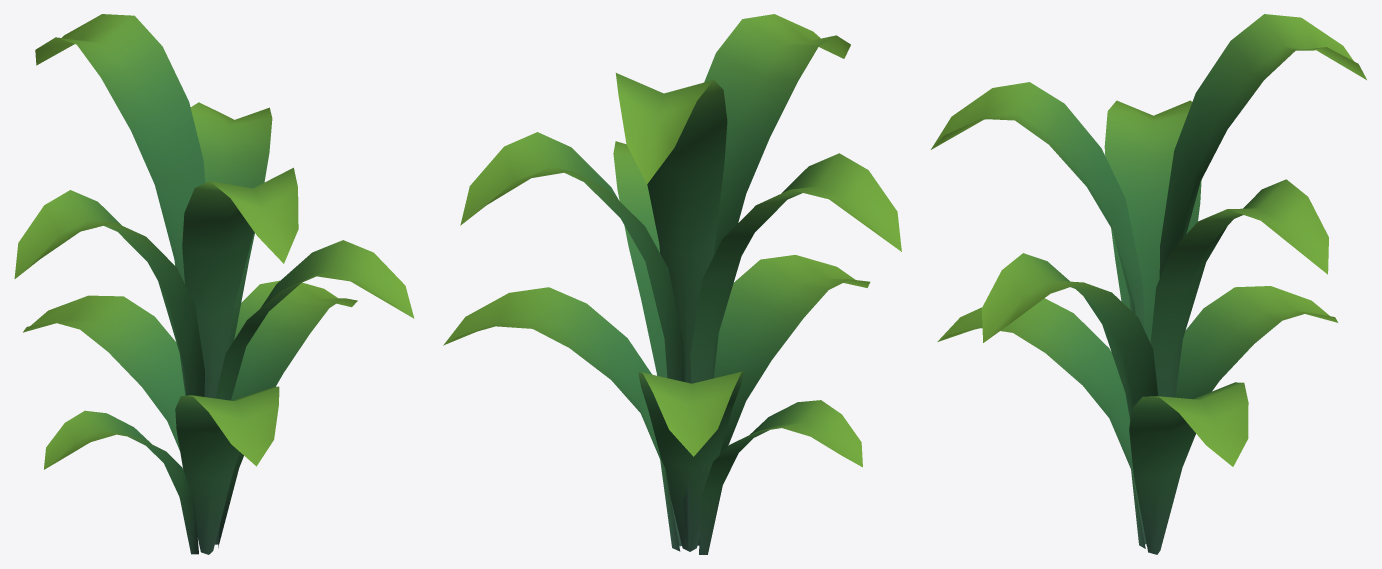
The model's file is plant_37.fbx.
3 renders of one model, left to right at view 1: azimuth 30°, elevation 25°; view 2: azimuth 150°, elevation 25°; view 3: azimuth 270°, elevation 25°, orthographic. The views are drawn at different scales.
Visible parts, largest first — view 1: plant_37; view 2: plant_37; view 3: plant_37.
Part boxes in pixels (<box>): plant_37: <box>14,14,414,554</box>; plant_37: <box>443,14,901,554</box>; plant_37: <box>931,14,1366,554</box>.
Size of the model in its own units: 2.8 by 3.44 by 2.74.
